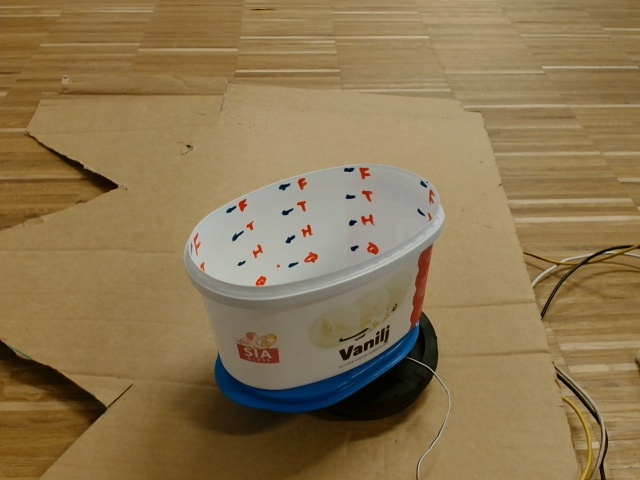Big_zero: (178, 160, 440, 301)
